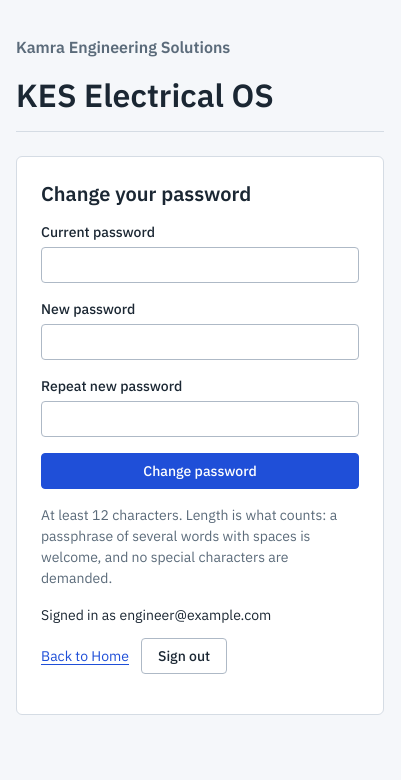
Scenario: ChangePasswordPage › refuses the first password / the first password / the first password before anything is sent
The width and height of the screenshot is (401, 780).
In the password field labelled "Current password": (200, 265) [41,247,359,283], type "the first password"
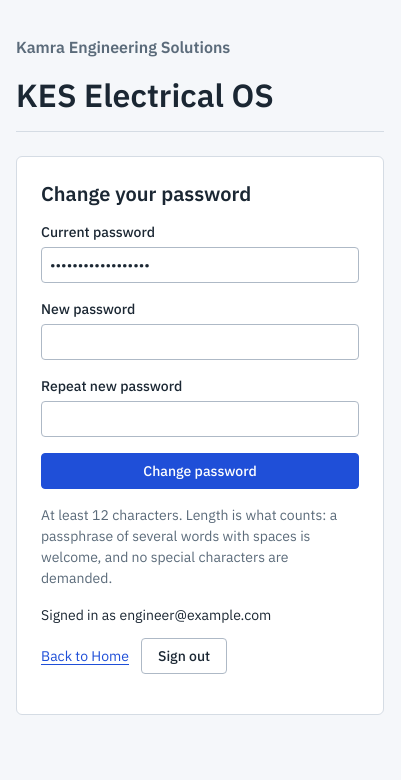
In the password field labelled "New password": (200, 342) [41,324,359,360], type "the first password"
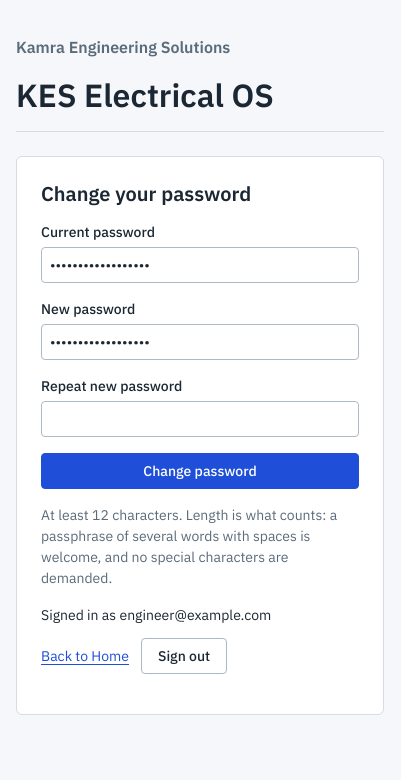
In the password field labelled "Repeat new password": (200, 419) [41,401,359,437], type "the first password"
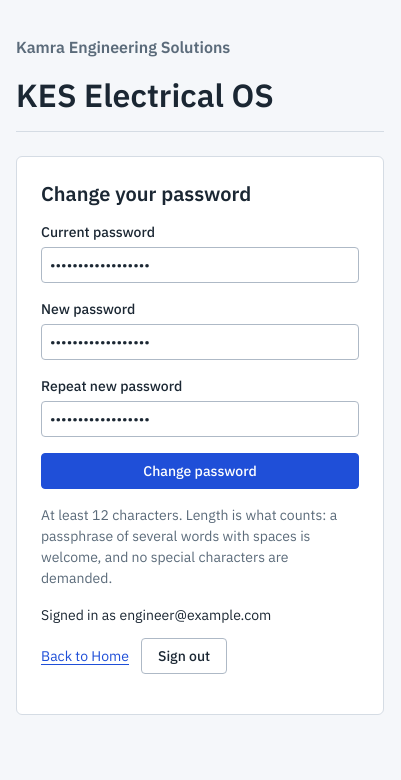
Click the button "Change password": (200, 471) [41,453,359,489]
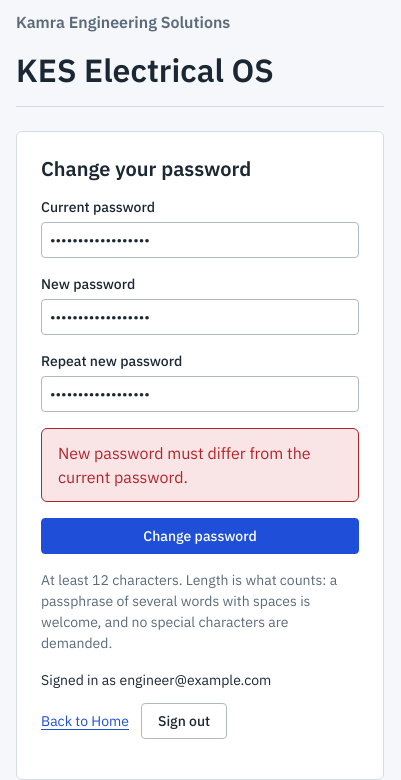
Now the message reads "New password must differ from the current password.", box [58,443,311,487]
